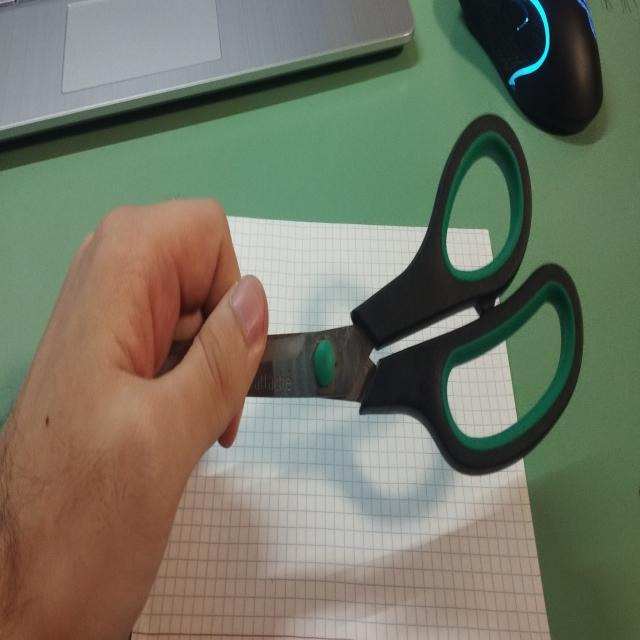tesoura: (158, 100, 588, 483)
